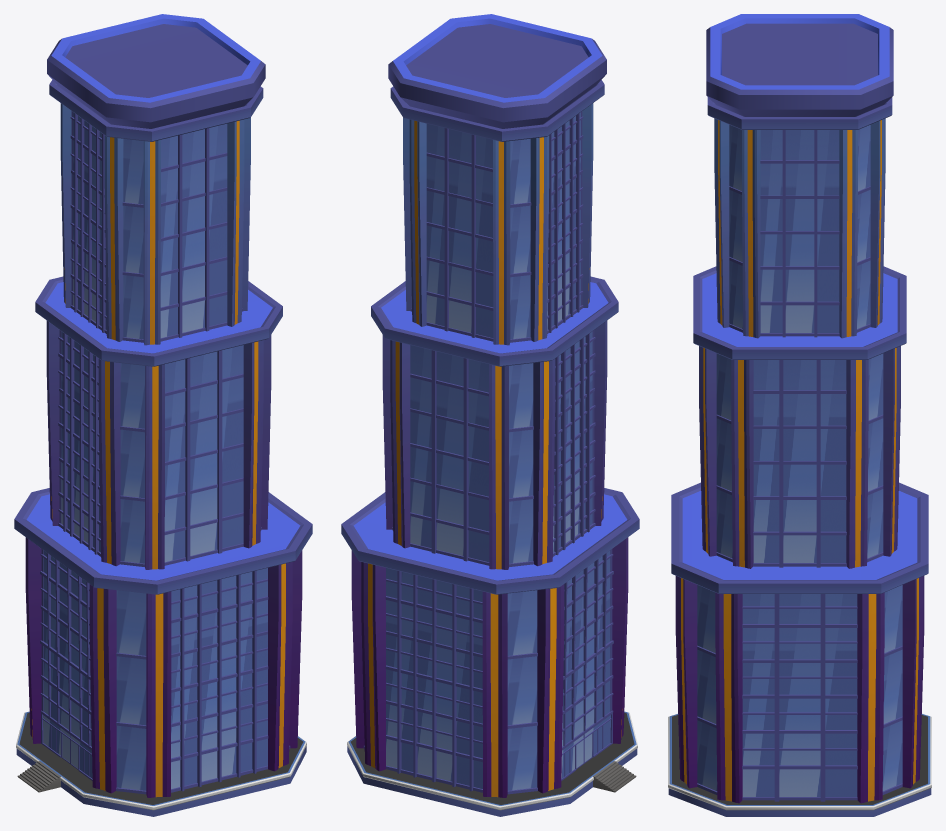
Rendered from Building_7_1_C.fbx.
3 renders of one model, left to right at view 1: azimuth 30°, elevation 25°; view 2: azimuth 150°, elevation 25°; view 3: azimuth 270°, elevation 25°, orthographic.
Parts seen in each view (by area): view 1: Building_7_1_C; view 2: Building_7_1_C; view 3: Building_7_1_C.
Part boxes in pixels (x1,y1,x2,y2): Building_7_1_C: [14, 14, 312, 816]; Building_7_1_C: [341, 14, 639, 816]; Building_7_1_C: [668, 14, 931, 816].
Size of the model in its own units: 2520 by 6846 by 2311.
